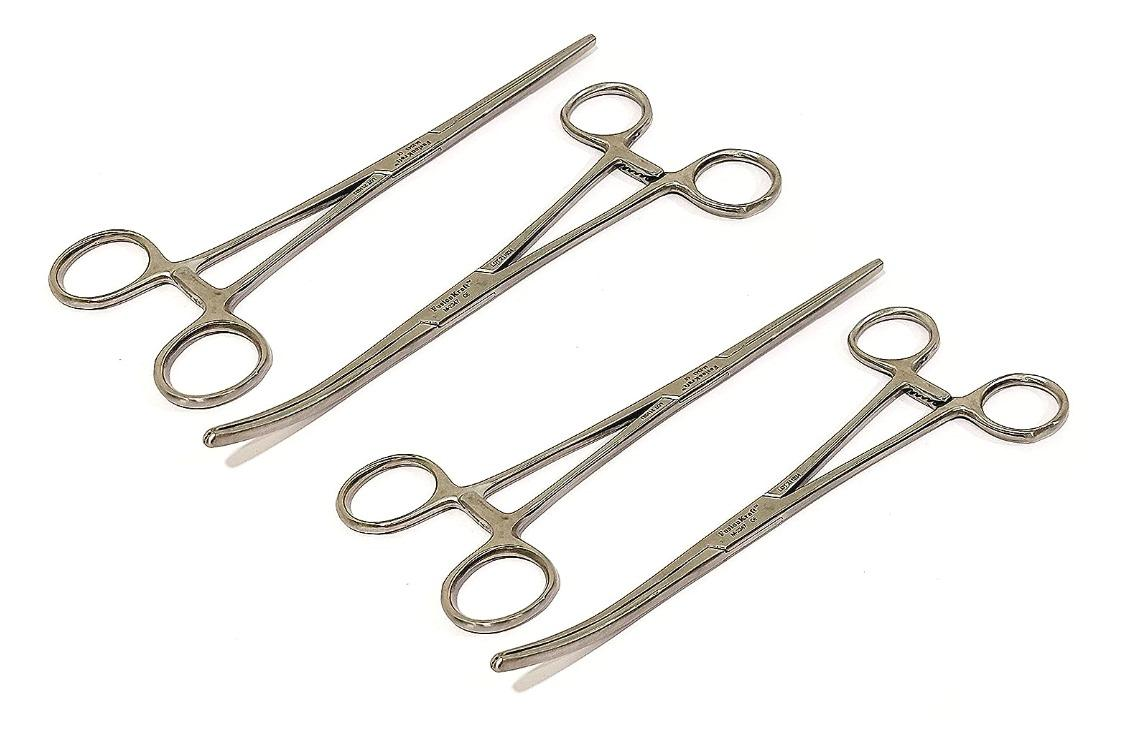Doyel Instestinal Forceps: (489, 302, 1076, 686), (199, 73, 788, 452)
